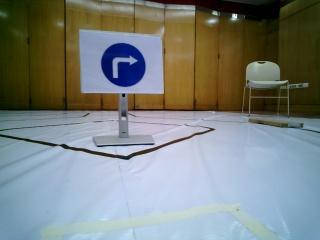right: (83, 34, 160, 91)
